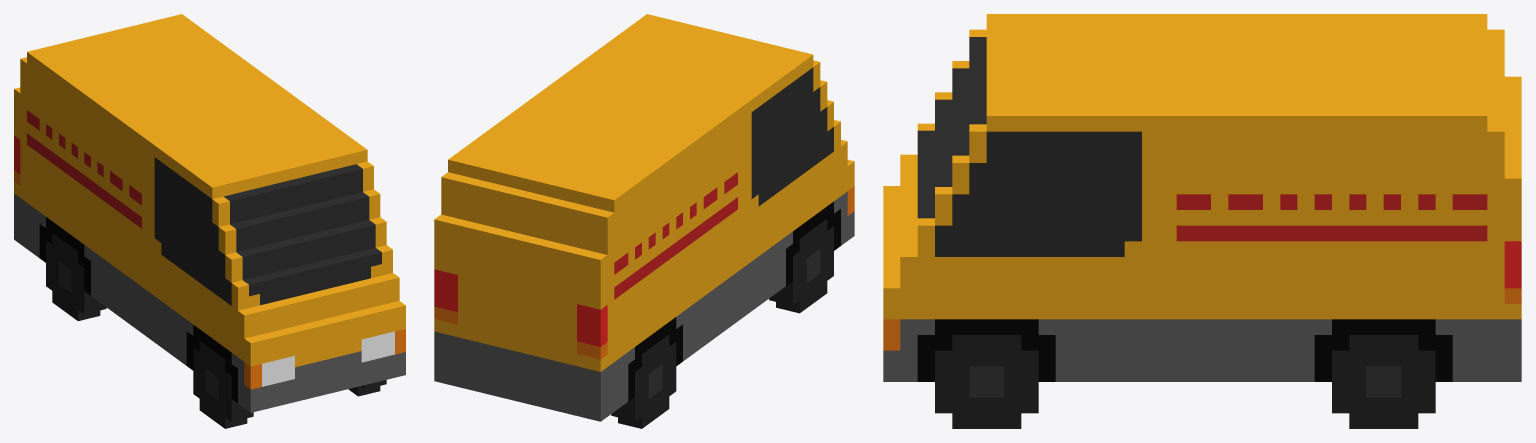
File: kit-voxel-vans-van-style1-yellow-red.glb
The picture shows the model from 3 angles, left to right: view 1: azimuth 30°, elevation 25°; view 2: azimuth 150°, elevation 25°; view 3: azimuth 270°, elevation 25°; orthographic projection. The views are drawn at different scales.
Parts seen in each view (by area): view 1: geometry_1; view 2: geometry_1; view 3: geometry_1.
Part boxes in pixels (<box>): geometry_1: <box>14,14,405,428</box>; geometry_1: <box>434,14,854,428</box>; geometry_1: <box>883,14,1521,428</box>.
Bounding box in the file's own units: 1.4 × 2 × 3.7.
1 material, 1 textured.
